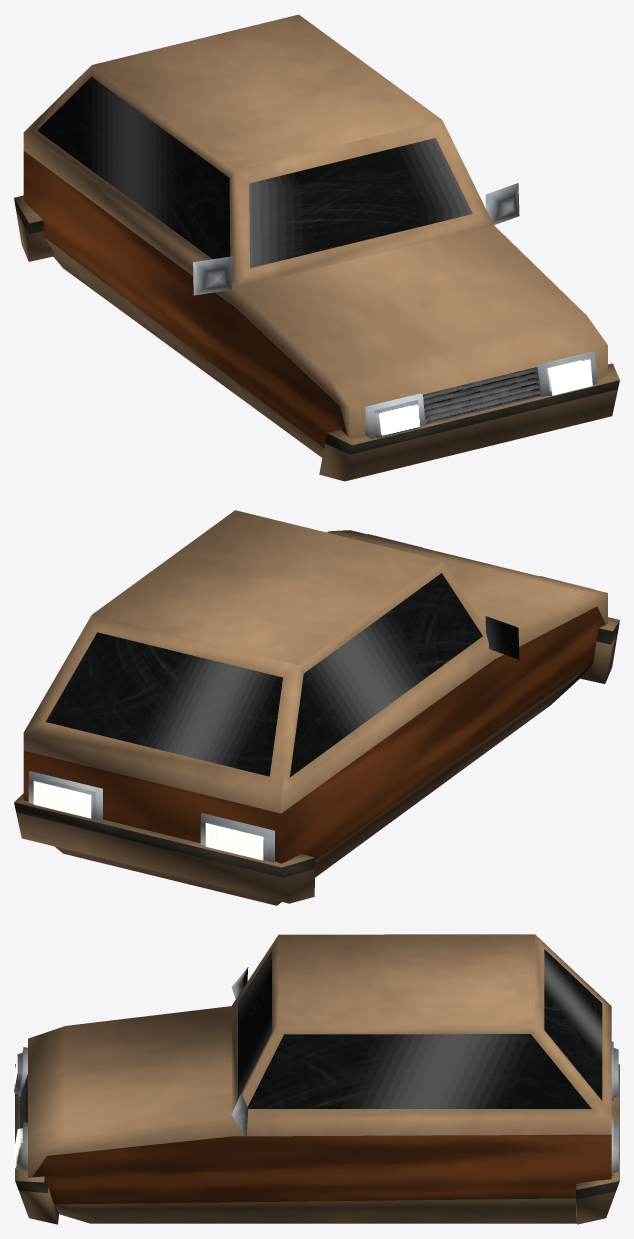
Rendered from EnemyCar_1.fbx.
The picture shows the model from 3 angles, top to bottom: view 1: azimuth 30°, elevation 25°; view 2: azimuth 150°, elevation 25°; view 3: azimuth 270°, elevation 25°; orthographic projection. The views are drawn at different scales.
Parts seen in each view (by area): view 1: StationWagon; view 2: StationWagon; view 3: StationWagon.
Boxes of the visible parts, x1,y1,x2,y2 form: StationWagon: [14, 14, 619, 481]; StationWagon: [14, 510, 619, 905]; StationWagon: [14, 934, 619, 1224].
Bounding box in the file's own units: 75.86 × 49.18 × 137.
